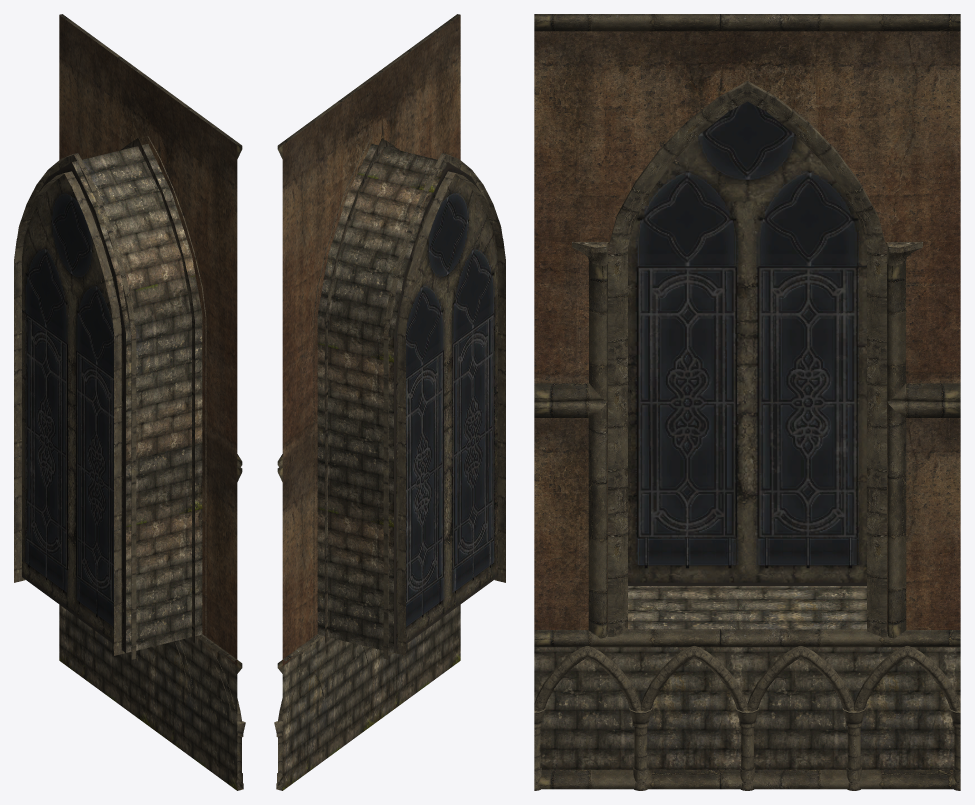
Rendered from NC_wall_window_large.DAE.
The picture shows the model from 3 angles, left to right: view 1: azimuth 30°, elevation 25°; view 2: azimuth 150°, elevation 25°; view 3: azimuth 270°, elevation 25°; orthographic projection. The views are drawn at different scales.
Parts seen in each view (by area): view 1: NC_wall_window_large_trim, NC_window_large, NC_wall_window_large, NC_window_large_details; view 2: NC_wall_window_large_trim, NC_window_large, NC_wall_window_large, NC_window_large_details; view 3: NC_window_large, NC_wall_window_large, NC_window_large_details, NC_wall_window_large_trim.
Part boxes in pixels (x1=…): NC_wall_window_large_trim: x1=59, y1=144, x2=237, y2=790; NC_window_large: x1=22, y1=162, x2=125, y2=652; NC_wall_window_large: x1=59, y1=15, x2=237, y2=666; NC_window_large_details: x1=14, y1=14, x2=245, y2=790; NC_wall_window_large_trim: x1=282, y1=144, x2=460, y2=790; NC_window_large: x1=394, y1=162, x2=497, y2=652; NC_wall_window_large: x1=282, y1=15, x2=460, y2=666; NC_window_large_details: x1=274, y1=14, x2=505, y2=790; NC_window_large: x1=628, y1=101, x2=866, y2=585; NC_wall_window_large: x1=534, y1=31, x2=960, y2=629; NC_window_large_details: x1=534, y1=14, x2=960, y2=790; NC_wall_window_large_trim: x1=534, y1=586, x2=960, y2=769.
Bounding box in the file's own units: 1.22 × 4 × 8.
